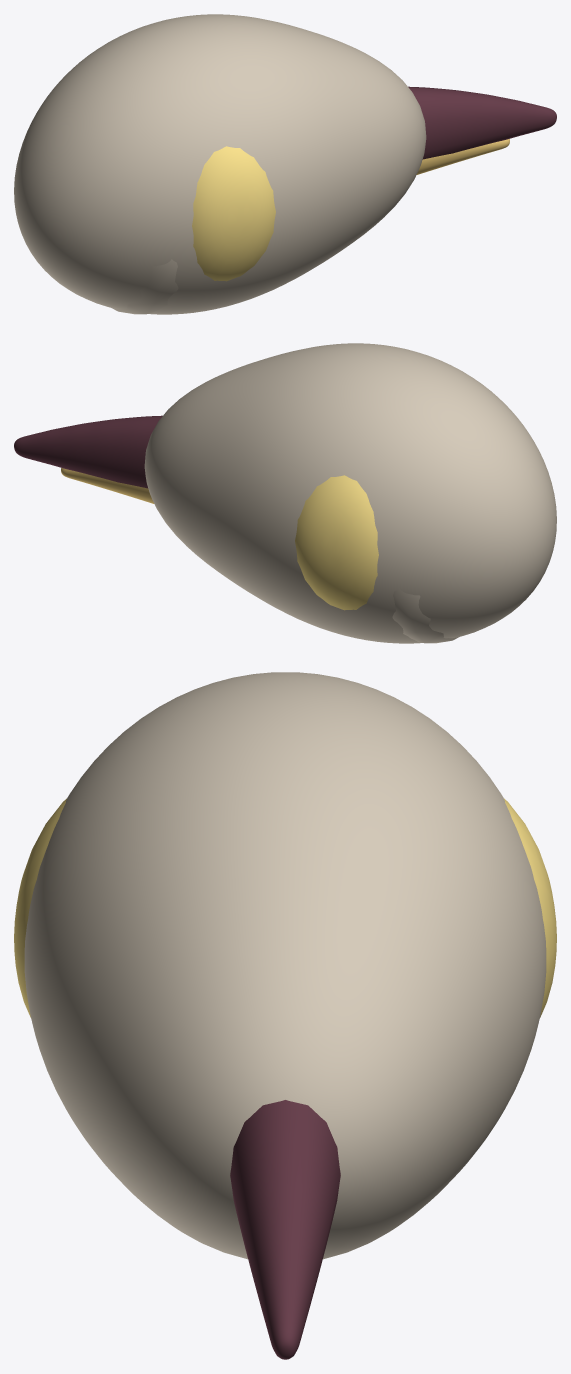
Rendered from creature.penguinhead.glb.
The picture shows the model from 3 angles, top to bottom: view 1: azimuth 30°, elevation 25°; view 2: azimuth 150°, elevation 25°; view 3: azimuth 270°, elevation 25°; orthographic projection. The views are drawn at different scales.
Visible parts, largest first — view 1: Skin, FruitGold, Dark, Beak; view 2: Skin, FruitGold, Dark, Beak; view 3: Skin, Dark, FruitGold.
Boxes of the visible parts, left/top/right/bottom form: Skin: left=14, top=14, right=426, bottom=314; FruitGold: left=192, top=146, right=275, bottom=281; Dark: left=408, top=86, right=556, bottom=159; Beak: left=416, top=139, right=509, bottom=174; Skin: left=144, top=343, right=556, bottom=643; FruitGold: left=295, top=475, right=378, bottom=610; Dark: left=14, top=415, right=162, bottom=488; Beak: left=61, top=468, right=154, bottom=503; Skin: left=24, top=672, right=546, bottom=1259; Dark: left=230, top=1100, right=340, bottom=1359; FruitGold: left=14, top=798, right=556, bottom=1017.
Bounding box in the file's own units: 4.88 × 2.36 × 2.38.
